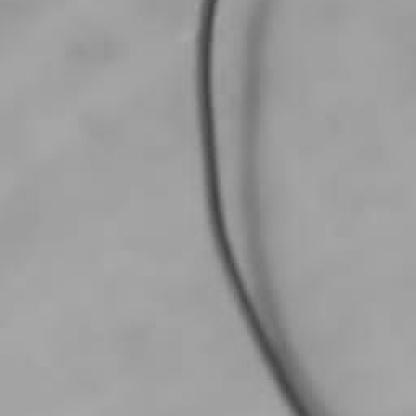wires: (192, 2, 308, 414)
